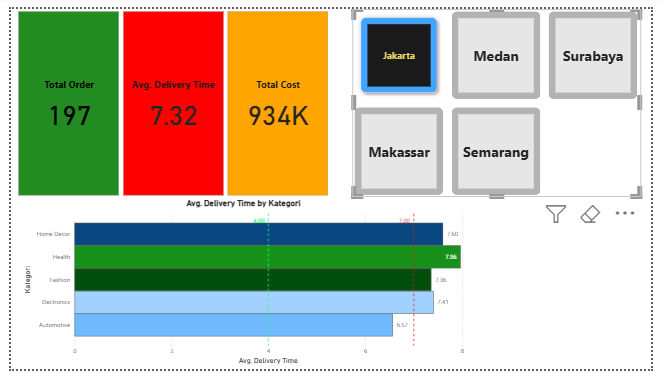

What the dashboard file says about the page in this screenshot:
{"tool":"powerbi","page":{"name":"Page 1","canvas":[1280,720],"ordinal":0},"visuals":[{"type":"cardVisual","fields":{"Data":["Count(supply_chain_cleaned_final.Order_ID)","Avg(supply_chain_cleaned_final.Lead_Time_Days)","Sum(supply_chain_cleaned_final.Shipping_Cost)"]},"box":[10,0,630,378],"z":0},{"type":"clusteredBarChart","title":"Avg. Delivery Time by Kategori","fields":{"Category":["supply_chain_cleaned_final.Product_Category"],"Y":["Avg(supply_chain_cleaned_final.Lead_Time_Days)"]},"box":[10,376.7,910,343.3],"z":1000},{"type":"advancedSlicerVisual","fields":{"Values":["supply_chain_cleaned_final.Warehouse_Location"]},"box":[682.5,0,577.5,377.5],"z":2000}]}

Visuals, with their boxes in screenshot pixels (x1, y1, x2, y2), scaled from the page's 1280x720 canvas onto the 662x381 screenshot:
cardVisual - Count(supply_chain_cleaned_final.Order_ID) x Avg(supply_chain_cleaned_final.Lead_Time_Days): 5 0 331 200
"Avg. Delivery Time by Kategori" clusteredBarChart: 5 199 476 380
advancedSlicerVisual - supply_chain_cleaned_final.Warehouse_Location: 353 0 652 200
